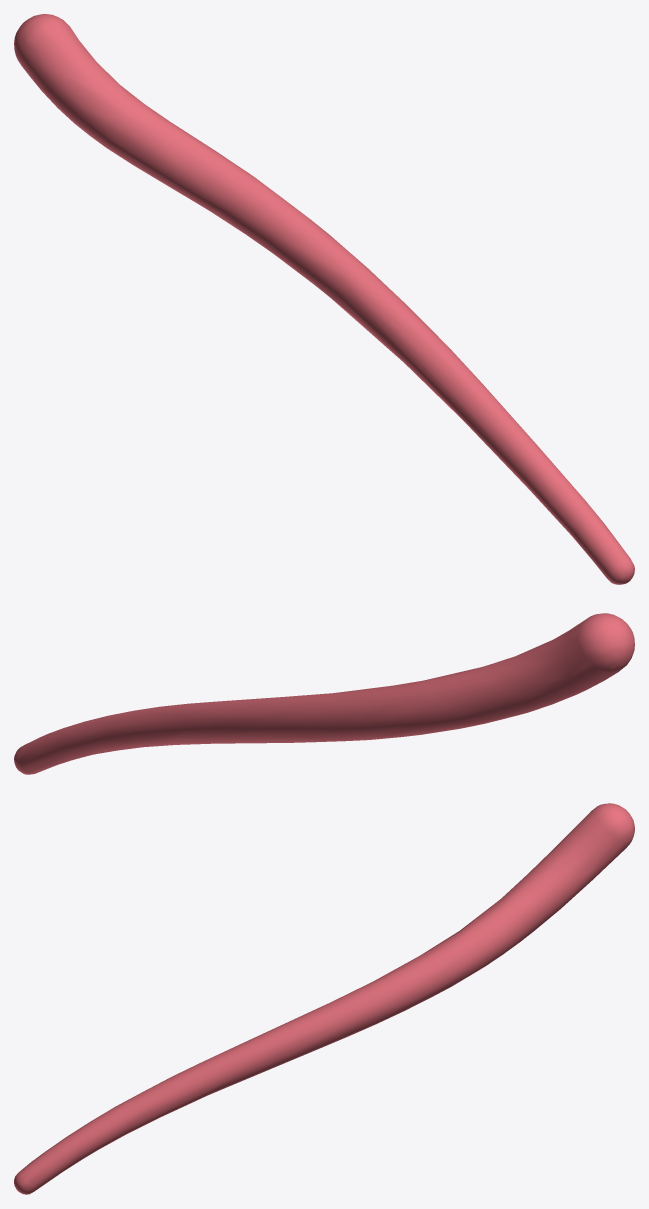
The model's file is fma43917_fj2073.glb.
3 renders of one model, top to bottom at view 1: azimuth 30°, elevation 25°; view 2: azimuth 210°, elevation 25°; view 3: azimuth 270°, elevation 25°, orthographic. The views are drawn at different scales.
Visible parts, largest first — view 1: FMA43917_FJ2073; view 2: FMA43917_FJ2073; view 3: FMA43917_FJ2073.
Boxes of the visible parts, x1,y1,x2,y2 form: FMA43917_FJ2073: [14, 14, 634, 584]; FMA43917_FJ2073: [14, 613, 634, 774]; FMA43917_FJ2073: [14, 803, 634, 1194].
Bounding box in the file's own units: 0.0241 × 0.0319 × 0.0602.
